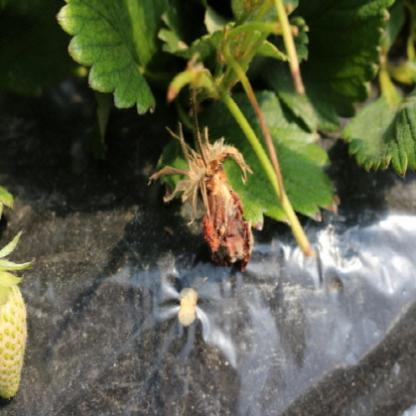Strawberry_Gray_Mold: (149, 122, 255, 272)
